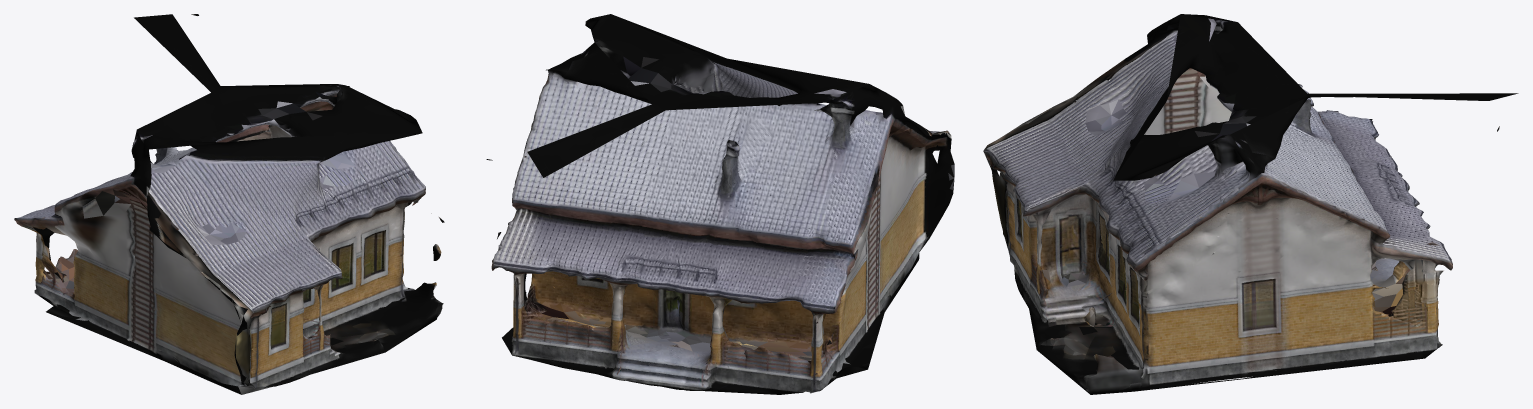
File: original.obj
3 renders of one model, left to right at view 1: azimuth 30°, elevation 25°; view 2: azimuth 150°, elevation 25°; view 3: azimuth 270°, elevation 25°, orthographic. The views are drawn at different scales.
Bounding box in the file's own units: 12.82 × 7.9 × 15.86.
Materials: 1 (1 with a texture image).
